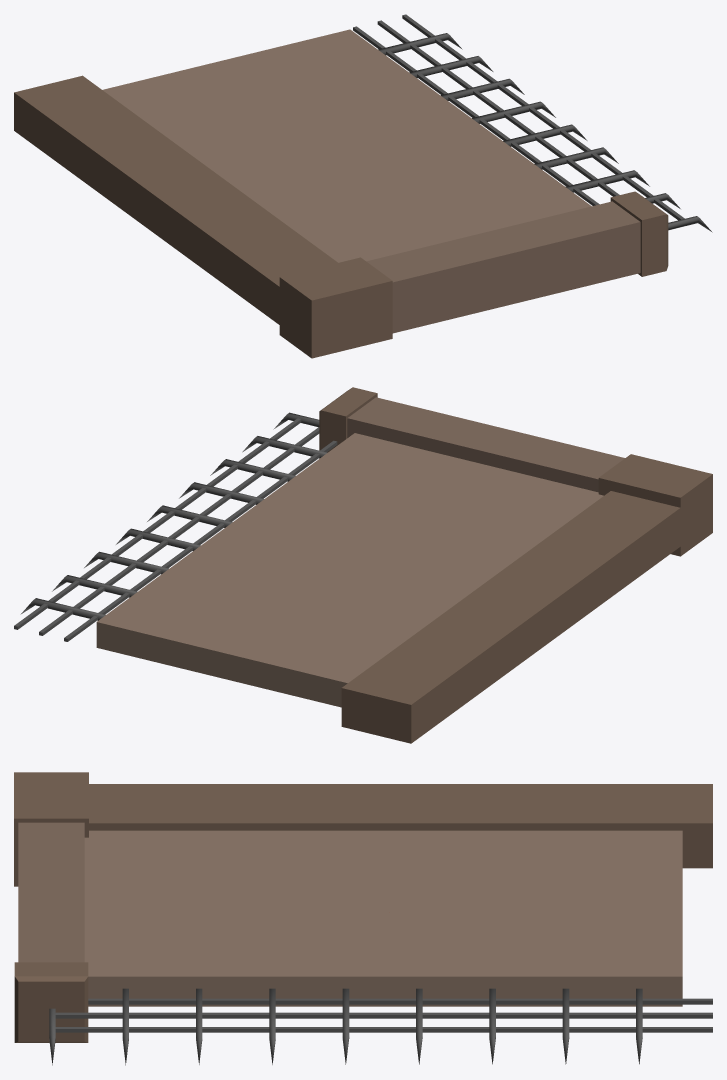
The model's file is Fence1Broke.fbx.
3 renders of one model, top to bottom at view 1: azimuth 30°, elevation 25°; view 2: azimuth 150°, elevation 25°; view 3: azimuth 270°, elevation 25°, orthographic. The views are drawn at different scales.
Visible parts, largest first — view 1: Fence1_fracturepart9_2, Fence1_fracturepart5, Fence1_fracturepart7, Fence1_fracturepart6, Fence1_fracturepart3, Fence1_fracturepart4, Fence1_fracturepart8, Fence1_fracturepart1_2, Fence1_fracturepart10, Fence1_fracturepart2_3, Fence1_fracturepart4_2, Fence1_fracturepart2_4 (+16 smaller); view 2: Fence1_fracturepart9_2, Fence1_fracturepart5, Fence1_fracturepart6, Fence1_fracturepart3, Fence1_fracturepart1_2, Fence1_fracturepart7, Fence1_fracturepart4_2, Fence1_fracturepart10, Fence1_fracturepart2_3, Fence1_fracturepart4, Fence1_fracturepart8, Fence1_fracturepart9 (+15 smaller); view 3: Fence1_fracturepart9_2, Fence1_fracturepart6, Fence1_fracturepart5, Fence1_fracturepart3, Fence1_fracturepart1_2, Fence1_fracturepart8, Fence1_fracturepart4_2, Fence1_fracturepart8_2, Fence1_fracturepart2_3, Fence1_fracturepart7, Fence1_fracturepart2_4, Fence1_fracturepart9 (+14 smaller).
Boxes of the visible parts, x1,y1,x2,y2 form: Fence1_fracturepart9_2: [103, 29, 359, 144]; Fence1_fracturepart5: [14, 91, 236, 241]; Fence1_fracturepart7: [279, 258, 442, 358]; Fence1_fracturepart6: [348, 36, 534, 170]; Fence1_fracturepart3: [221, 143, 426, 209]; Fence1_fracturepart4: [428, 216, 557, 321]; Fence1_fracturepart8: [551, 191, 668, 294]; Fence1_fracturepart1_2: [336, 169, 490, 258]; Fence1_fracturepart10: [166, 189, 273, 285]; Fence1_fracturepart2_3: [223, 216, 337, 305]; Fence1_fracturepart4_2: [450, 165, 545, 240]; Fence1_fracturepart2_4: [279, 208, 377, 262]; Fence1_fracturepart9_2: [96, 565, 402, 707]; Fence1_fracturepart5: [402, 573, 569, 742]; Fence1_fracturepart6: [106, 485, 346, 614]; Fence1_fracturepart3: [334, 522, 499, 611]; Fence1_fracturepart1_2: [318, 473, 575, 536]; Fence1_fracturepart7: [575, 447, 712, 556]; Fence1_fracturepart4_2: [286, 446, 520, 498]; Fence1_fracturepart10: [498, 546, 625, 630]; Fence1_fracturepart2_3: [536, 493, 659, 586]; Fence1_fracturepart4: [409, 418, 579, 473]; Fence1_fracturepart8: [319, 387, 459, 452]; Fence1_fracturepart9: [341, 644, 411, 743]; Fence1_fracturepart9_2: [410, 830, 682, 1006]; Fence1_fracturepart6: [249, 909, 661, 1006]; Fence1_fracturepart5: [346, 784, 712, 830]; Fence1_fracturepart3: [260, 835, 480, 927]; Fence1_fracturepart1_2: [84, 851, 301, 954]; Fence1_fracturepart8: [14, 918, 88, 1042]; Fence1_fracturepart4_2: [84, 883, 260, 975]; Fence1_fracturepart8_2: [84, 945, 251, 1006]; Fence1_fracturepart2_3: [97, 784, 263, 830]; Fence1_fracturepart7: [14, 772, 88, 886]; Fence1_fracturepart2_4: [84, 830, 279, 865]; Fence1_fracturepart9: [570, 787, 712, 868].
Bounding box in the file's own units: 342 × 45.43 × 423.
Materials: 1 (1 with a texture image).
